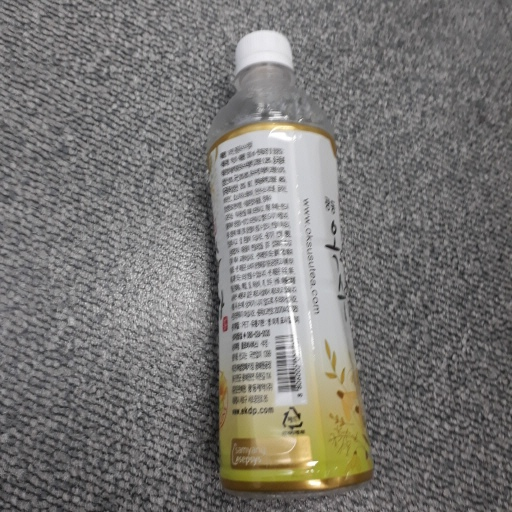Plastic_0: (196, 26, 375, 491)
